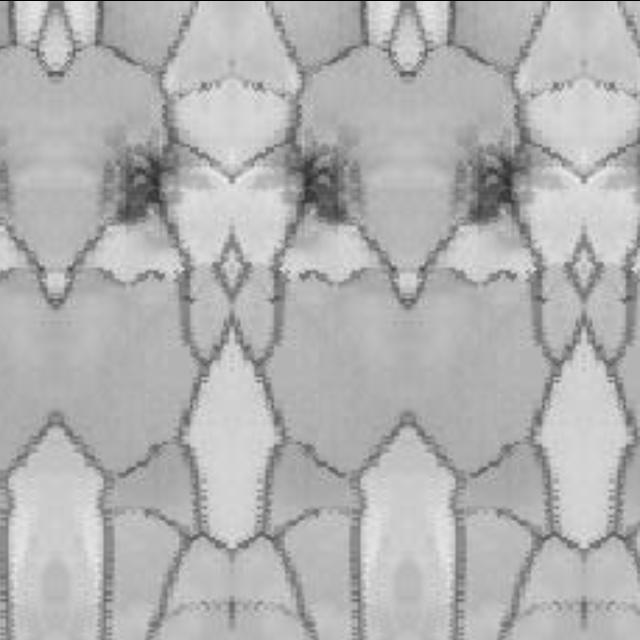good_void: (427, 116, 571, 253), (74, 116, 217, 253), (247, 117, 388, 251)
